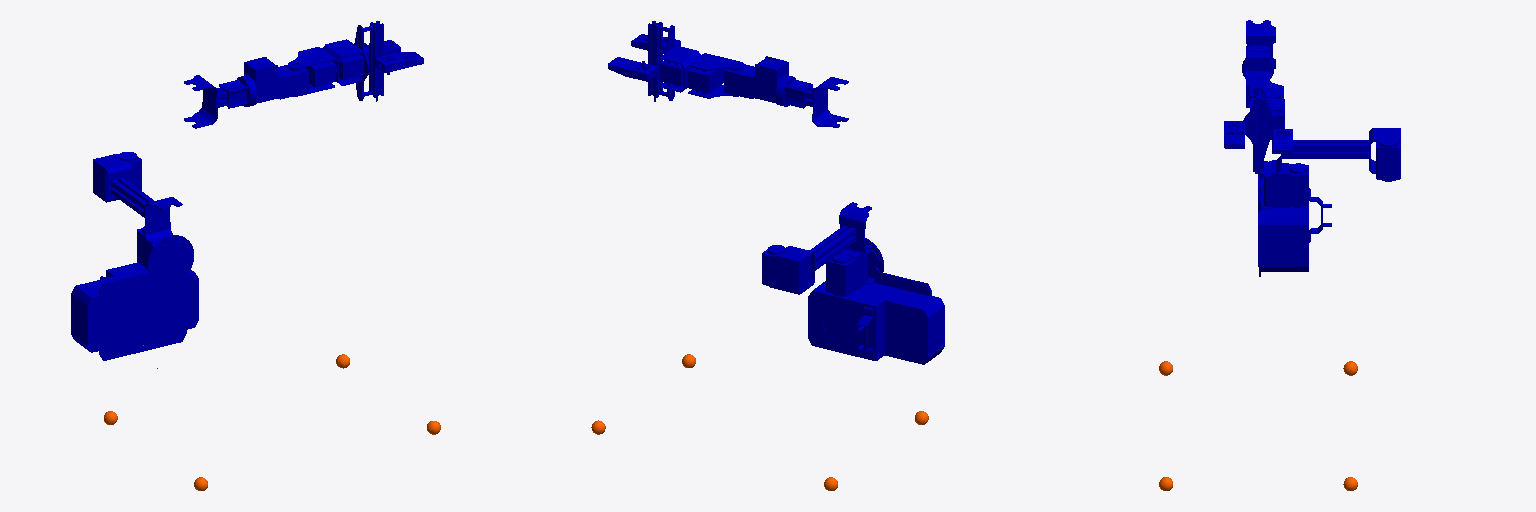
--- Render facts (derived) ---
The picture shows the robot from 3 angles, left to right: view 1: azimuth 30°, elevation 25°; view 2: azimuth 150°, elevation 25°; view 3: azimuth 270°, elevation 25°; orthographic projection.
Model go1 with 33 links and 32 joints (18 revolute, 2 prismatic, 12 fixed), rooted at base, posed joints at zero except 4 at the middle of their limits (FR_calf_joint = -1.78, FL_calf_joint = -1.78, RR_calf_joint = -1.78, RL_calf_joint = -1.78).
Visible links, largest first — view 1: sagittarius_base_link, link2, link6, link4, link3, link1, link5, link_gripper_right; view 2: sagittarius_base_link, link2, link6, link4, link1, link3, link5, link_gripper_left; view 3: sagittarius_base_link, link2, link1, link6, link4, link3, link_gripper_right, link_gripper_left.
Link boxes in pixels (bbox=[...]): sagittarius_base_link: bbox=[71, 262, 198, 360]; link2: bbox=[93, 152, 182, 247]; link6: bbox=[322, 21, 383, 101]; link4: bbox=[241, 57, 308, 106]; link3: bbox=[184, 75, 251, 128]; link1: bbox=[137, 226, 193, 273]; link5: bbox=[288, 47, 336, 96]; link_gripper_right: bbox=[375, 52, 423, 74]; sagittarius_base_link: bbox=[808, 273, 944, 364]; link2: bbox=[762, 202, 871, 294]; link6: bbox=[648, 21, 700, 101]; link4: bbox=[724, 56, 789, 106]; link1: bbox=[826, 238, 883, 296]; link3: bbox=[781, 76, 848, 127]; link5: bbox=[688, 53, 743, 98]; link_gripper_left: bbox=[608, 57, 656, 81]; sagittarius_base_link: bbox=[1258, 164, 1331, 276]; link2: bbox=[1255, 128, 1400, 181]; link1: bbox=[1258, 161, 1308, 211]; link6: bbox=[1243, 87, 1284, 176]; link4: bbox=[1242, 46, 1273, 107]; link3: bbox=[1242, 20, 1275, 68]; link_gripper_right: bbox=[1224, 121, 1244, 148]; link_gripper_left: bbox=[1272, 126, 1292, 153].
Size in the robot's own frame: 0.5182 by 0.3326 by 0.5907 metres.
9 mesh visuals loaded from 14 distinct referenced files (9 Collada DAE); not drawn: 13 (reference not matched to a file when rendering).

robot.urdf — go1:
<?xml version="1.0" ?>
<!-- =================================================================================== -->
<!-- |    This document was autogenerated by xacro from robot.xacro                    | -->
<!-- |    EDITING THIS FILE BY HAND IS NOT RECOMMENDED                                 | -->
<!-- =================================================================================== -->
<robot name="go1" xmlns:xacro="http://www.ros.org/wiki/xacro">
  <material name="black">
    <color rgba="0.0 0.0 0.0 1.0"/>
  </material>
  <material name="blue">
    <color rgba="0.0 0.0 0.8 1.0"/>
  </material>
  <material name="green">
    <color rgba="0.0 0.8 0.0 1.0"/>
  </material>
  <material name="grey">
    <color rgba="0.2 0.2 0.2 1.0"/>
  </material>
  <material name="silver">
    <color rgba="0.913725490196 0.913725490196 0.847058823529 1.0"/>
  </material>
  <material name="orange">
    <color rgba="1.0 0.423529411765 0.0392156862745 1.0"/>
  </material>
  <material name="brown">
    <color rgba="0.870588235294 0.811764705882 0.764705882353 1.0"/>
  </material>
  <material name="red">
    <color rgba="0.8 0.0 0.0 1.0"/>
  </material>
  <material name="white">
    <color rgba="1.0 1.0 1.0 1.0"/>
  </material>
 
  <link name="base">
    <visual>
      <origin rpy="0 0 0" xyz="0 0 0"/>
      <geometry>
        <box size="0.001 0.001 0.001"/>
      </geometry>
    </visual>
  </link>
  <joint name="floating_base" type="fixed">
    <origin rpy="0 0 0" xyz="0 0 0"/>
    <parent link="base"/>
    <child link="trunk"/>
  </joint>
  <link name="trunk">
    <visual>
      <origin rpy="0 0 0" xyz="0 0 0"/>
      <geometry>
        <mesh filename="../meshes/trunk.dae" scale="1 1 1"/>
      </geometry>
      <material name="orange"/>
    </visual>
    <collision>
      <origin rpy="0 0 0" xyz="0 0 0"/>
      <geometry>
        <!-- <box size="0.3762 0.0935 0.114"/> -->
        <box size="0.4062 0.1 0.114"/>
      </geometry>
    </collision>
    <inertial>
      <origin rpy="0 0 0" xyz="0.0223 0.002 -0.0005"/>
      <mass value="5.204"/>
      <!-- <mass value="2.204"/> -->
      <inertia ixx="0.0168352186" ixy="0.0004636141" ixz="0.0002367952" iyy="0.0656071082" iyz="3.6671e-05" izz="0.0742720659"/>
    </inertial>
  </link>
  <joint name="imu_joint" type="fixed">
    <parent link="trunk"/>
    <child link="imu_link"/>
    <origin rpy="0 0 0" xyz="-0.01592 -0.06659 -0.00617"/>
  </joint>
  <link name="imu_link">
    <inertial>
      <mass value="0.001"/>
      <origin rpy="0 0 0" xyz="0 0 0"/>
      <inertia ixx="0.0001" ixy="0" ixz="0" iyy="0.0001" iyz="0" izz="0.0001"/>
    </inertial>
    <visual>
      <origin rpy="0 0 0" xyz="0 0 0"/>
      <geometry>
        <box size="0.001 0.001 0.001"/>
      </geometry>
      <material name="red"/>
    </visual>
    <collision>
      <origin rpy="0 0 0" xyz="0 0 0"/>
      <geometry>
        <box size=".001 .001 .001"/>
      </geometry>
    </collision>
  </link>
  <joint name="FR_hip_joint" type="revolute">
    <origin rpy="0 0 0" xyz="0.1881 -0.04675 0"/>
    <parent link="trunk"/>
    <child link="FR_hip"/>
    <axis xyz="1 0 0"/>
    <dynamics damping="0.0" friction="0"/>
    <limit effort="23.7" lower="-1.0471975512" upper="1.0471975512" velocity="30.1"/>
  </joint>
  <link name="FR_hip">
    <visual>
      <origin rpy="3.14159265359 0 0" xyz="0 0 0"/>
      <geometry>
        <mesh filename="../meshes/hip.dae" scale="1 1 1"/>
      </geometry>
      <material name="orange"/>
    </visual>
    <collision>
      <origin rpy="1.57079632679 0 0" xyz="0 0 0"/>
      <geometry>
        <cylinder length="0.04" radius="0.046"/>
      </geometry>
    </collision>
    <inertial>
      <origin rpy="0 0 0" xyz="-0.00541 0.00074 6e-06"/>
      <mass value="0.591"/>
      <inertia ixx="0.000374268192" ixy="-3.6844422e-05" ixz="-9.86754e-07" iyy="0.000635923669" iyz="1.172894e-06" izz="0.000457647394"/>
    </inertial>
  </link>
  <joint name="FR_hip_fixed" type="fixed">
    <origin rpy="0 0 0" xyz="0 -0.08 0"/>
    <parent link="FR_hip"/>
    <child link="FR_thigh_shoulder"/>
  </joint>
  <!-- this link is only for collision -->
  <link name="FR_thigh_shoulder">
    <collision>
      <origin rpy="1.57079632679 0 0" xyz="0 0 0"/>
      <geometry>
        <cylinder length="0.032" radius="0.041"/>
      </geometry>
    </collision>
  </link>
  <joint name="FR_thigh_joint" type="revolute">
    <origin rpy="0 0 0" xyz="0 -0.08 0"/>
    <parent link="FR_hip"/>
    <child link="FR_thigh"/>
    <axis xyz="0 1 0"/>
    <dynamics damping="0.0" friction="0"/>
    <limit effort="23.7" lower="-0.663225115758" upper="2.96705972839" velocity="30.1"/>
  </joint>
  <link name="FR_thigh">
    <visual>
      <origin rpy="0 0 0" xyz="0 0 0"/>
      <geometry>
        <mesh filename="../meshes/thigh_mirror.dae" scale="1 1 1"/>
      </geometry>
      <material name="orange"/>
    </visual>
    <collision>
      <origin rpy="0 1.57079632679 0" xyz="0 0 -0.1065"/>
      <geometry>
        <box size="0.213 0.0245 0.034"/>
      </geometry>
    </collision>
    <inertial>
      <origin rpy="0 0 0" xyz="-0.003468 0.018947 -0.032736"/>
      <mass value="0.92"/>
      <inertia ixx="0.005851561134" ixy="-1.783284e-06" ixz="0.000328291374" iyy="0.005596155105" iyz="-2.1430713e-05" izz="0.00107157026"/>
    </inertial>
  </link>
  <joint name="FR_calf_joint" type="revolute">
    <origin rpy="0 0 0" xyz="0 0 -0.213"/>
    <parent link="FR_thigh"/>
    <child link="FR_calf"/>
    <axis xyz="0 1 0"/>
    <dynamics damping="0.0" friction="0"/>
    <limit effort="23.7" lower="-2.72271363311" upper="-0.837758040957" velocity="30.1"/>
  </joint>
  <link name="FR_calf">
    <visual>
      <origin rpy="0 0 0" xyz="0 0 0"/>
      <geometry>
        <mesh filename="../meshes/calf.dae" scale="1 1 1"/>
      </geometry>
      <material name="orange"/>
    </visual>
    <collision>
      <origin rpy="0 1.57079632679 0" xyz="0 0 -0.1065"/>
      <geometry>
        <box size="0.213 0.016 0.016"/>
      </geometry>
    </collision>
    <inertial>
      <origin rpy="0 0 0" xyz="0.006286 0.001307 -0.122269"/>
      <mass value="0.131"/>
      <inertia ixx="0.002939186297" ixy="1.440899e-06" ixz="-0.00010535955" iyy="0.00295576935" iyz="-2.4397752e-05" izz="3.0273372e-05"/>
    </inertial>
  </link>
  <joint name="FR_foot_fixed" type="fixed" dont_collapse="true">
    <origin rpy="0 0 0" xyz="0 0 -0.213"/>
    <parent link="FR_calf"/>
    <child link="FR_foot"/>
  </joint>
  <link name="FR_foot">
    <visual>
      <origin rpy="0 0 0" xyz="0 0 0"/>
      <geometry>
        <sphere radius="0.01"/>
      </geometry>
      <material name="orange"/>
    </visual>
    <collision>
      <origin rpy="0 0 0" xyz="0 0 0"/>
      <geometry>
        <sphere radius="0.02"/>
      </geometry>
    </collision>
    <inertial>
      <mass value="0.06"/>
      <inertia ixx="9.6e-06" ixy="0.0" ixz="0.0" iyy="9.6e-06" iyz="0.0" izz="9.6e-06"/>
    </inertial>
  </link>

  <joint name="FL_hip_joint" type="revolute">
    <origin rpy="0 0 0" xyz="0.1881 0.04675 0"/>
    <parent link="trunk"/>
    <child link="FL_hip"/>
    <axis xyz="1 0 0"/>
    <dynamics damping="0.0" friction="0"/>
    <limit effort="23.7" lower="-1.0471975512" upper="1.0471975512" velocity="30.1"/>
  </joint>
  <link name="FL_hip">
    <visual>
      <origin rpy="0 0 0" xyz="0 0 0"/>
      <geometry>
        <mesh filename="../meshes/hip.dae" scale="1 1 1"/>
      </geometry>
      <material name="orange"/>
    </visual>
    <collision>
      <origin rpy="1.57079632679 0 0" xyz="0 0 0"/>
      <geometry>
        <cylinder length="0.04" radius="0.046"/>
      </geometry>
    </collision>
    <inertial>
      <origin rpy="0 0 0" xyz="-0.00541 -0.00074 6e-06"/>
      <mass value="0.591"/>
      <inertia ixx="0.000374268192" ixy="3.6844422e-05" ixz="-9.86754e-07" iyy="0.000635923669" iyz="-1.172894e-06" izz="0.000457647394"/>
    </inertial>
  </link>
  <joint name="FL_hip_fixed" type="fixed">
    <origin rpy="0 0 0" xyz="0 0.08 0"/>
    <parent link="FL_hip"/>
    <child link="FL_thigh_shoulder"/>
  </joint>
  <!-- this link is only for collision -->
  <link name="FL_thigh_shoulder">
    <collision>
      <origin rpy="1.57079632679 0 0" xyz="0 0 0"/>
      <geometry>
        <cylinder length="0.032" radius="0.041"/>
      </geometry>
    </collision>
  </link>
  <joint name="FL_thigh_joint" type="revolute">
    <origin rpy="0 0 0" xyz="0 0.08 0"/>
    <parent link="FL_hip"/>
    <child link="FL_thigh"/>
    <axis xyz="0 1 0"/>
    <dynamics damping="0.0" friction="0"/>
    <limit effort="23.7" lower="-0.663225115758" upper="2.96705972839" velocity="30.1"/>
  </joint>
  <link name="FL_thigh">
    <visual>
      <origin rpy="0 0 0" xyz="0 0 0"/>
      <geometry>
        <mesh filename="../meshes/thigh.dae" scale="1 1 1"/>
      </geometry>
      <material name="orange"/>
    </visual>
    <collision>
      <origin rpy="0 1.57079632679 0" xyz="0 0 -0.1065"/>
      <geometry>
        <box size="0.213 0.0245 0.034"/>
      </geometry>
    </collision>
    <inertial>
      <origin rpy="0 0 0" xyz="-0.003468 -0.018947 -0.032736"/>
      <mass value="0.92"/>
      <inertia ixx="0.005851561134" ixy="1.783284e-06" ixz="0.000328291374" iyy="0.005596155105" iyz="2.1430713e-05" izz="0.00107157026"/>
    </inertial>
  </link>
  <joint name="FL_calf_joint" type="revolute">
    <origin rpy="0 0 0" xyz="0 0 -0.213"/>
    <parent link="FL_thigh"/>
    <child link="FL_calf"/>
    <axis xyz="0 1 0"/>
    <dynamics damping="0.0" friction="0"/>
    <limit effort="23.7" lower="-2.72271363311" upper="-0.837758040957" velocity="30.1"/>
  </joint>
  <link name="FL_calf">
    <visual>
      <origin rpy="0 0 0" xyz="0 0 0"/>
      <geometry>
        <mesh filename="../meshes/calf.dae" scale="1 1 1"/>
      </geometry>
      <material name="orange"/>
    </visual>
    <collision>
      <origin rpy="0 1.57079632679 0" xyz="0 0 -0.1065"/>
      <geometry>
        <box size="0.213 0.016 0.016"/>
      </geometry>
    </collision>
    <inertial>
      <origin rpy="0 0 0" xyz="0.006286 0.001307 -0.122269"/>
      <mass value="0.131"/>
      <inertia ixx="0.002939186297" ixy="1.440899e-06" ixz="-0.00010535955" iyy="0.00295576935" iyz="-2.4397752e-05" izz="3.0273372e-05"/>
    </inertial>
  </link>
  <joint name="FL_foot_fixed" type="fixed" dont_collapse="true">
    <origin rpy="0 0 0" xyz="0 0 -0.213"/>
    <parent link="FL_calf"/>
    <child link="FL_foot"/>
  </joint>
  <link name="FL_foot">
    <visual>
      <origin rpy="0 0 0" xyz="0 0 0"/>
      <geometry>
        <sphere radius="0.01"/>
      </geometry>
      <material name="orange"/>
    </visual>
    <collision>
      <origin rpy="0 0 0" xyz="0 0 0"/>
      <geometry>
        <sphere radius="0.02"/>
      </geometry>
    </collision>
    <inertial>
      <mass value="0.06"/>
      <inertia ixx="9.6e-06" ixy="0.0" ixz="0.0" iyy="9.6e-06" iyz="0.0" izz="9.6e-06"/>
    </inertial>
  </link>

  <joint name="RR_hip_joint" type="revolute">
    <origin rpy="0 0 0" xyz="-0.1881 -0.04675 0"/>
    <parent link="trunk"/>
    <child link="RR_hip"/>
    <axis xyz="1 0 0"/>
    <dynamics damping="0.0" friction="0"/>
    <limit effort="23.7" lower="-1.0471975512" upper="1.0471975512" velocity="30.1"/>
  </joint>
  <link name="RR_hip">
    <visual>
      <origin rpy="3.14159265359 3.14159265359 0" xyz="0 0 0"/>
      <geometry>
        <mesh filename="../meshes/hip.dae" scale="1 1 1"/>
      </geometry>
      <material name="orange"/>
    </visual>
    <collision>
      <origin rpy="1.57079632679 0 0" xyz="0 0 0"/>
      <geometry>
        <cylinder length="0.04" radius="0.046"/>
      </geometry>
    </collision>
    <inertial>
      <origin rpy="0 0 0" xyz="0.00541 0.00074 6e-06"/>
      <mass value="0.591"/>
      <inertia ixx="0.000374268192" ixy="3.6844422e-05" ixz="9.86754e-07" iyy="0.000635923669" iyz="1.172894e-06" izz="0.000457647394"/>
    </inertial>
  </link>
  <joint name="RR_hip_fixed" type="fixed">
    <origin rpy="0 0 0" xyz="0 -0.08 0"/>
    <parent link="RR_hip"/>
    <child link="RR_thigh_shoulder"/>
  </joint>
  <!-- this link is only for collision -->
  <link name="RR_thigh_shoulder">
    <collision>
      <origin rpy="1.57079632679 0 0" xyz="0 0 0"/>
      <geometry>
        <cylinder length="0.032" radius="0.041"/>
      </geometry>
    </collision>
  </link>
  <joint name="RR_thigh_joint" type="revolute">
    <origin rpy="0 0 0" xyz="0 -0.08 0"/>
    <parent link="RR_hip"/>
    <child link="RR_thigh"/>
    <axis xyz="0 1 0"/>
    <dynamics damping="0.0" friction="0"/>
    <limit effort="23.7" lower="-0.663225115758" upper="2.96705972839" velocity="30.1"/>
  </joint>
  <link name="RR_thigh">
    <visual>
      <origin rpy="0 0 0" xyz="0 0 0"/>
      <geometry>
        <mesh filename="../meshes/thigh_mirror.dae" scale="1 1 1"/>
      </geometry>
      <material name="orange"/>
    </visual>
    <collision>
      <origin rpy="0 1.57079632679 0" xyz="0 0 -0.1065"/>
      <geometry>
        <box size="0.213 0.0245 0.034"/>
      </geometry>
    </collision>
    <inertial>
      <origin rpy="0 0 0" xyz="-0.003468 0.018947 -0.032736"/>
      <mass value="0.92"/>
      <inertia ixx="0.005851561134" ixy="-1.783284e-06" ixz="0.000328291374" iyy="0.005596155105" iyz="-2.1430713e-05" izz="0.00107157026"/>
    </inertial>
  </link>
  <joint name="RR_calf_joint" type="revolute">
    <origin rpy="0 0 0" xyz="0 0 -0.213"/>
    <parent link="RR_thigh"/>
    <child link="RR_calf"/>
    <axis xyz="0 1 0"/>
    <dynamics damping="0.0" friction="0"/>
    <limit effort="23.7" lower="-2.72271363311" upper="-0.837758040957" velocity="30.1"/>
  </joint>
  <link name="RR_calf">
    <visual>
      <origin rpy="0 0 0" xyz="0 0 0"/>
      <geometry>
        <mesh filename="../meshes/calf.dae" scale="1 1 1"/>
      </geometry>
      <material name="orange"/>
    </visual>
    <collision>
      <origin rpy="0 1.57079632679 0" xyz="0 0 -0.1065"/>
      <geometry>
        <box size="0.213 0.016 0.016"/>
      </geometry>
    </collision>
    <inertial>
      <origin rpy="0 0 0" xyz="0.006286 0.001307 -0.122269"/>
      <mass value="0.131"/>
      <inertia ixx="0.002939186297" ixy="1.440899e-06" ixz="-0.00010535955" iyy="0.00295576935" iyz="-2.4397752e-05" izz="3.0273372e-05"/>
    </inertial>
  </link>
  <joint name="RR_foot_fixed" type="fixed" dont_collapse="true">
    <origin rpy="0 0 0" xyz="0 0 -0.213"/>
    <parent link="RR_calf"/>
    <child link="RR_foot"/>
  </joint>
  <link name="RR_foot">
    <visual>
      <origin rpy="0 0 0" xyz="0 0 0"/>
      <geometry>
        <sphere radius="0.01"/>
      </geometry>
      <material name="orange"/>
    </visual>
    <collision>
      <origin rpy="0 0 0" xyz="0 0 0"/>
      <geometry>
        <sphere radius="0.02"/>
      </geometry>
    </collision>
    <inertial>
      <mass value="0.06"/>
      <inertia ixx="9.6e-06" ixy="0.0" ixz="0.0" iyy="9.6e-06" iyz="0.0" izz="9.6e-06"/>
    </inertial>
  </link>
  
  <joint name="RL_hip_joint" type="revolute">
    <origin rpy="0 0 0" xyz="-0.1881 0.04675 0"/>
    <parent link="trunk"/>
    <child link="RL_hip"/>
    <axis xyz="1 0 0"/>
    <dynamics damping="0.0" friction="0"/>
    <limit effort="23.7" lower="-1.0471975512" upper="1.0471975512" velocity="30.1"/>
  </joint>
  <link name="RL_hip">
    <visual>
      <origin rpy="0 3.14159265359 0" xyz="0 0 0"/>
      <geometry>
        <mesh filename="../meshes/hip.dae" scale="1 1 1"/>
      </geometry>
      <material name="orange"/>
    </visual>
    <collision>
      <origin rpy="1.57079632679 0 0" xyz="0 0 0"/>
      <geometry>
        <cylinder length="0.04" radius="0.046"/>
      </geometry>
    </collision>
    <inertial>
      <origin rpy="0 0 0" xyz="0.00541 -0.00074 6e-06"/>
      <mass value="0.591"/>
      <inertia ixx="0.000374268192" ixy="-3.6844422e-05" ixz="9.86754e-07" iyy="0.000635923669" iyz="-1.172894e-06" izz="0.000457647394"/>
    </inertial>
  </link>
  <joint name="RL_hip_fixed" type="fixed">
    <origin rpy="0 0 0" xyz="0 0.08 0"/>
    <parent link="RL_hip"/>
    <child link="RL_thigh_shoulder"/>
  </joint>
  <!-- this link is only for collision -->
  <link name="RL_thigh_shoulder">
    <collision>
      <origin rpy="1.57079632679 0 0" xyz="0 0 0"/>
      <geometry>
        <cylinder length="0.032" radius="0.041"/>
      </geometry>
    </collision>
  </link>
  <joint name="RL_thigh_joint" type="revolute">
    <origin rpy="0 0 0" xyz="0 0.08 0"/>
    <parent link="RL_hip"/>
    <child link="RL_thigh"/>
    <axis xyz="0 1 0"/>
    <dynamics damping="0.0" friction="0"/>
    <limit effort="23.7" lower="-0.663225115758" upper="2.96705972839" velocity="30.1"/>
  </joint>
  <link name="RL_thigh">
    <visual>
      <origin rpy="0 0 0" xyz="0 0 0"/>
      <geometry>
        <mesh filename="../meshes/thigh.dae" scale="1 1 1"/>
      </geometry>
      <material name="orange"/>
    </visual>
    <collision>
      <origin rpy="0 1.57079632679 0" xyz="0 0 -0.1065"/>
      <geometry>
        <box size="0.213 0.0245 0.034"/>
      </geometry>
    </collision>
    <inertial>
      <origin rpy="0 0 0" xyz="-0.003468 -0.018947 -0.032736"/>
      <mass value="0.92"/>
      <inertia ixx="0.005851561134" ixy="1.783284e-06" ixz="0.000328291374" iyy="0.005596155105" iyz="2.1430713e-05" izz="0.00107157026"/>
    </inertial>
  </link>
  <joint name="RL_calf_joint" type="revolute">
    <origin rpy="0 0 0" xyz="0 0 -0.213"/>
    <parent link="RL_thigh"/>
    <child link="RL_calf"/>
    <axis xyz="0 1 0"/>
    <dynamics damping="0.0" friction="0"/>
    <limit effort="23.7" lower="-2.72271363311" upper="-0.837758040957" velocity="30.1"/>
  </joint>
  <link name="RL_calf">
    <visual>
      <origin rpy="0 0 0" xyz="0 0 0"/>
      <geometry>
        <mesh filename="../meshes/calf.dae" scale="1 1 1"/>
      </geometry>
      <material name="orange"/>
    </visual>
    <collision>
      <origin rpy="0 1.57079632679 0" xyz="0 0 -0.1065"/>
      <geometry>
        <box size="0.213 0.016 0.016"/>
      </geometry>
    </collision>
    <inertial>
      <origin rpy="0 0 0" xyz="0.006286 0.001307 -0.122269"/>
      <mass value="0.131"/>
      <inertia ixx="0.002939186297" ixy="1.440899e-06" ixz="-0.00010535955" iyy="0.00295576935" iyz="-2.4397752e-05" izz="3.0273372e-05"/>
    </inertial>
  </link>
  <joint name="RL_foot_fixed" type="fixed" dont_collapse="true">
    <origin rpy="0 0 0" xyz="0 0 -0.213"/>
    <parent link="RL_calf"/>
    <child link="RL_foot"/>
  </joint>
  <link name="RL_foot">
    <visual>
      <origin rpy="0 0 0" xyz="0 0 0"/>
      <geometry>
        <sphere radius="0.01"/>
      </geometry>
      <material name="orange"/>
    </visual>
    <collision>
      <origin rpy="0 0 0" xyz="0 0 0"/>
      <geometry>
        <sphere radius="0.02"/>
      </geometry>
    </collision>
    <inertial>
      <mass value="0.06"/>
      <inertia ixx="9.6e-06" ixy="0.0" ixz="0.0" iyy="9.6e-06" iyz="0.0" izz="9.6e-06"/>
    </inertial>
  </link>
<!-- connect with the arm -->

<!-- <xacro:property name="UnitreeGripper" value="false"/> -->
  <!-- <link name="world"/> -->
  <joint name="base_static_joint" type="fixed">
    <origin rpy="-1.57 0 0" xyz="0. 0 0.05"/>
    <parent link="trunk"/>
    <child link="sagittarius_base_link"/>
  </joint>

  <link
    name="sagittarius_base_link">
    <inertial>
      <origin
        xyz="0.00793179544277737 2.48115460577673E-19 0.0312047945759253"
        rpy="0 0 0" />
      <!-- <mass value="0.940146705073746" /> -->
      <mass value="0.140146705073746E-1" />
      <inertia
        ixx="0.000950195835062344"
        ixy="3.14825974312405E-20"
        ixz="-0.000200082473207336"
        iyy="0.00267650790326047"
        iyz="-1.01412991222915E-19"
        izz="0.002902663900239" />
    </inertial>
    <visual>
      <origin
        xyz="0 0 0"
        rpy="0 0 0" />
      <geometry>
        <mesh
          filename="../meshes/sagittarius_base_link.dae" />
      </geometry>
      <material name="blue"/>
    </visual>
    <collision>
      <origin
        xyz="0 0 0"
        rpy="0 0 0" />
      <geometry>
         <mesh filename="../meshes/sagittarius_base_link.dae" />
      </geometry>
    </collision>
  </link>

  <joint
    name="joint1"
    type="revolute">
    <!-- <origin  xyz="0.045 0 0.07"  rpy="0 0 0" /> -->
    <origin  xyz="4.5000000e-02 -6.9999979e-02 5.5741000e-05"  rpy="0 0 0" />
    <parent
      link="sagittarius_base_link" />
    <child
      link="link1" />
    <!-- <axis xyz="0 0 -1" /> -->
    <axis xyz="0 1 0" />
    <limit
      lower="-2"
      upper="2"
      effort="20"
      velocity="3.14" />
  </joint>

  <link
    name="link1">
    <inertial>
      <origin
        xyz="-7.74579608786574E-10 3.23354786979222E-12 0.0344870497564283"
        rpy="0 0 0" />
      <mass
        value="0.123745079127031E-1" />
      <inertia
        ixx="8.15779591743416E-05"
        ixy="-4.25325094802094E-15"
        ixz="-2.22201794150093E-12"
        iyy="6.7607001964135E-05"
        iyz="-1.59127137655435E-14"
        izz="4.41297902395382E-05" />
    </inertial>
    <visual>
      <origin xyz="0 0 0" rpy="0 0 0" />
      <geometry>
        <mesh
          filename="../meshes/link1.dae" />
      </geometry>
      <material name="blue"/>
    </visual>
    <collision>
      <origin
        xyz="0 0 0"
        rpy="0 0 0" />
      <geometry>
         <mesh filename="../meshes/link1.dae" /> 
      </geometry>
    </collision>
  </link>

  <joint
    name="joint2"
    type="revolute">
    <!-- <origin  xyz="0 -0.0001 0.055"  rpy="0 0 0" /> -->
    <origin  xyz="0.00000000e+00 -5.50000631e-02 -0.0001"  rpy="0 0 0" />
    <parent
      link="link1" />
    <child
      link="link2" />
    <!-- <axis xyz="0 -1 0" /> -->
    <axis xyz="0 0 -1" />
    <limit
      lower="-1.57"
      upper="1.4"
      effort="20"
      velocity="3.14" />
  </joint>

  <link
    name="link2">
    <inertial>
      <origin xyz="0.0119015312584793 -1.03639845764692E-08 0.150755903867182"  rpy="0 0 0" />
      <mass
        value="0.156160822791157E-1" />
      <inertia
        ixx="0.000429266751802994"
        ixy="-2.27426165787001E-11"
        ixz="-5.58862834004722E-05"
        iyy="0.000444676097748043"
        iyz="-2.41993274420629E-10"
        izz="7.916162292894E-05" />
    </inertial>
    <visual>
      <origin
        xyz="0 0 0"
        rpy="0 0 0" />
      <geometry>
        <mesh filename="../meshes/link2.dae" />
      </geometry>
      <material name="blue"/>
    </visual>
    <collision>
      <origin
        xyz="0 0 0"
        rpy="0 0 0" />
      <geometry>
        <mesh filename="../meshes/link2.dae" />
      </geometry>
    </collision>
  </link> 
  
  
  <joint
    name="joint3"
    type="revolute">
    <!-- <origin xyz="0.033 -0.0001 0.179" rpy="0 0 0" /> -->
    <origin xyz="0.033 -0.179 -0.0001" rpy="0 0 0" />
    <parent
      link="link2" />
    <child
      link="link3" />
    <!-- <axis xyz="0 -1 0" /> -->
    <axis xyz="0 0 -1" />
    <limit
      lower="-1.48"
      upper="1.8"
      effort="20"
      velocity="3.14" />
  </joint>

  <link
    name="link3">
    <inertial>
      <origin
        xyz="0.054357321065004 -2.67256405253992E-08 0.00064594073830132"
        rpy="0 0 0" />
      <mass
        value="0.0366487313200473E-1" />
      <inertia
        ixx="9.28701176876329E-06"
        ixy="-2.23878504272996E-11"
        ixz="6.34310578103811E-07"
        iyy="2.0727596617309E-05"
        iyz="-1.71647322080315E-11"
        izz="2.42416271089979E-05" />
    </inertial>
    <visual>
      <origin
        xyz="0 0 0"
        rpy="0 0 0" />
      <geometry>
        <mesh filename="../meshes/link3.dae" />
      </geometry>
      <material name="blue"/>
    </visual>
    <collision>
      <origin
        xyz="0 0 0"
        rpy="0 0 0" />
      <geometry>
        <mesh filename="../meshes/link3.dae" />
      </geometry>
    </collision>
  </link>

  <joint
    name="joint4"
    type="revolute">
    <origin xyz="0.0845 0 0" rpy="0 0 0" />
    <parent
      link="link3" />
    <child
      link="link4" />
    <axis xyz="-1 0 0" />
    <limit
      lower="-2.90"
      upper="2.90"
      effort="20"
      velocity="3.14" />
  </joint>
  
  <link
    name="link4">
    <inertial>
      <origin
        xyz="0.0444029485674779 -0.00527865310158246 -1.43738021485262E-10"
        rpy="0 0 0" />
      <mass
        value="0.124950088011432E-1" />
      <inertia
        ixx="3.52699895078887E-05"
        ixy="-1.14870103744551E-05"
        ixz="2.45948329713632E-14"
        iyy="0.00010928557067047"
        iyz="-3.42525315676607E-12"
        izz="0.000121451732690361" />
    </inertial>
    <visual>
      <origin
        xyz="0 0 0"
        rpy="0 0 0" />
      <geometry>
        <mesh filename="../meshes/link4.dae" />
      </geometry>
      <material name="blue"/>
    </visual>
    <collision>
      <origin
        xyz="0 0 0"
        rpy="0 0 0" />
      <geometry>
        <mesh filename="../meshes/link4.dae" />
      </geometry>
    </collision>
  </link>

  <joint
    name="joint5"
    type="revolute">
    <!-- <origin xyz="0.08435 0.00065 0" rpy="0 0 0" /> -->
    <origin xyz="0.08435 0 0.00065" rpy="0 0 0" />
    <parent
      link="link4" />
    <child
      link="link5" />
    <!-- <axis xyz="0 -1 0" /> -->
    <axis xyz="0 0 -1" />
    <limit
      lower="-1.8"
      upper="1.60"
      effort="20"
      velocity="3.14" />
  </joint>

  <link
    name="link5">
    <inertial>
      <origin
        xyz="0.0391172635125616 1.22102848665318E-15 0.011359922796391"
        rpy="0 0 0" />
      <mass
        value="0.0564710099602834E-1" />
      <inertia
        ixx="1.77667699918498E-05"
        ixy="3.77572698012408E-19"
        ixz="-6.79618041712231E-07"
        iyy="1.89643063051294E-05"
        iyz="1.78381670331667E-19"
        izz="1.66130972969903E-05" />
    </inertial>
    <visual>
      <origin
        xyz="0 0 0"
        rpy="0 0 0" />
      <geometry>
        <mesh filename="../meshes/link5.dae" />
      </geometry>
      <material name="blue"/>
    </visual>
    <collision>
      <origin
        xyz="0 0 0"
        rpy="0 0 0" />
      <geometry>
        <mesh filename="../meshes/link5.dae" />
      </geometry>
    </collision>
  </link>

  <joint
    name="joint6"
    type="revolute">
    <origin
      xyz="0.061387 0 0"
      rpy="0 0 0" />
    <parent
      link="link5" />
    <child
      link="link6" />
    <axis
      xyz="-1 0 0" />
    <limit
      lower="-3.1"
      upper="3.1"
      effort="20"
      velocity="3.14" />
  </joint>
  
  <link
    name="link6">
    <inertial>
      <origin
        xyz="0.0330748503556987 -1.47583477394259E-10 0.00874151659437283"
        rpy="0 0 0" />
      <mass
        value="0.0790875358325134E-1" />
      <inertia
        ixx="4.00727396068743E-05"
        ixy="1.5026227935429E-13"
        ixz="6.77337873337555E-06"
        iyy="4.37063090227749E-05"
        iyz="-1.73263828329941E-13"
        izz="5.69755186998711E-05" />
    </inertial>
    <visual>
      <origin
        xyz="0 0 0"
        rpy="0 0 0" />
      <geometry>
        <mesh filename="../meshes/link6.dae" />
      </geometry>
      <material name="blue"/>
    </visual>
    <collision>
      <origin
        xyz="0 0 0"
        rpy="0 0 0" />
      <geometry>
        <mesh filename="../meshes/link6.dae" />
      </geometry>
    </collision>
  </link>
  

  <link
    name="link_grasping_frame">
    <inertial>
      <origin
        xyz="-0.29292863789122 -0.000855248417215765 -0.182862893125548"
        rpy="0 0 0" />
      <!-- <mass value="1.55422651132493" /> -->
      <mass value="0.055422651132493E-1" />
      <inertia
        ixx="0.0246807389934657"
        ixy="6.12977506319177E-05"
        ixz="-0.0174568851774044"
        iyy="0.0450160124726729"
        iyz="0.000114187269419605"
        izz="0.0218809326193524" />
    </inertial>
  </link>
  <joint
    name="joint_grasping_frame"
    type="fixed">
    <origin
      xyz="0.0557 0 0"
      rpy="0 0 0" />
    <parent
      link="link6" />
    <child
      link="link_grasping_frame" />
    <axis
      xyz="0 0 0" />
    <limit
      lower="0"
      upper="0"
      effort="10"
      velocity="3.14" />
  </joint>

  <link
    name="link_gripper_left">
    <inertial>
      <origin
        xyz="0.0168448613850675 0.00562743947549268 -3.34157867051821E-05"
        rpy="0 0 0" />
      <mass
        value="0.0185082696416839E-1" />
      <inertia
        ixx="1.65620668352765E-06"
        ixy="3.12039082733024E-07"
        ixz="-1.06123823321138E-09"
        iyy="7.56731403094351E-06"
        iyz="5.54920898904154E-11"
        izz="6.37610666327876E-06" />
    </inertial>
    <visual>
      <origin
        xyz="0 0 0"
        rpy="0 0 0" />
      <geometry>
        <mesh
          filename="../meshes/link_gripper_left.dae" />
      </geometry>
      <material name="blue"/>
    </visual>
    <collision>
      <origin
        xyz="0 0 0"
        rpy="0 0 0" />
      <geometry>
        <mesh
          filename="../meshes/link_gripper_left.dae" />
      </geometry>
    </collision>
  </link>

  <joint
    name="joint_gripper_left"
    type="prismatic">
    <!-- <origin xyz="0.0695 0.033 0" rpy="0 0 0" /> -->
    <origin xyz="0.0695 0 0.033" rpy="0 0 0" />
    <parent
      link="link6" />
    <child
      link="link_gripper_left" />
    <!-- <axis xyz="0 1 0" /> -->
    <axis xyz="0 0 1" />
    <limit
      lower="-0.034"
      upper="0"
      effort="10"
      velocity="3.14" />
  </joint>

  <link
    name="link_gripper_right">
    <inertial>
      <origin
        xyz="0.0168448612901284 -0.00562743946967042 3.34158424380449E-05"
        rpy="0 0 0" />
      <mass
        value="0.0185082695670405E-1" />
      <inertia
        ixx="1.65620670013429E-06"
        ixy="-3.12039085367371E-07"
        ixz="1.06121397059487E-09"
        iyy="7.56731399585561E-06"
        iyz="5.54960746810554E-11"
        izz="6.37610660879392E-06" />
    </inertial>
    <visual>
      <origin
        xyz="0 0 0"
        rpy="0 0 0" />
      <geometry>
        <mesh
          filename="../meshes/link_gripper_right.dae" />
      </geometry>
      <material name="blue"/>
    </visual>
    <collision>
      <origin
        xyz="0 0 0"
        rpy="0 0 0" />
      <geometry>
        <mesh
          filename="../meshes/link_gripper_right.dae" />
      </geometry>
    </collision>
  </link>

  <joint
    name="joint_gripper_right"
    type="prismatic">
    <!-- <origin xyz="0.0695 -0.033 0" rpy="0 0 0" /> -->
    <origin xyz="0.0695 0 -0.033" rpy="0 0 0" />
    <parent
      link="link6" />
    <child
      link="link_gripper_right" />
    <!-- <axis xyz="0 -1 0" /> -->
    <axis xyz="0 0 -1" />
    <limit
      lower="-0.034"
      upper="0"
      effort="10"
      velocity="3.14" />
  </joint> 

</robot>
